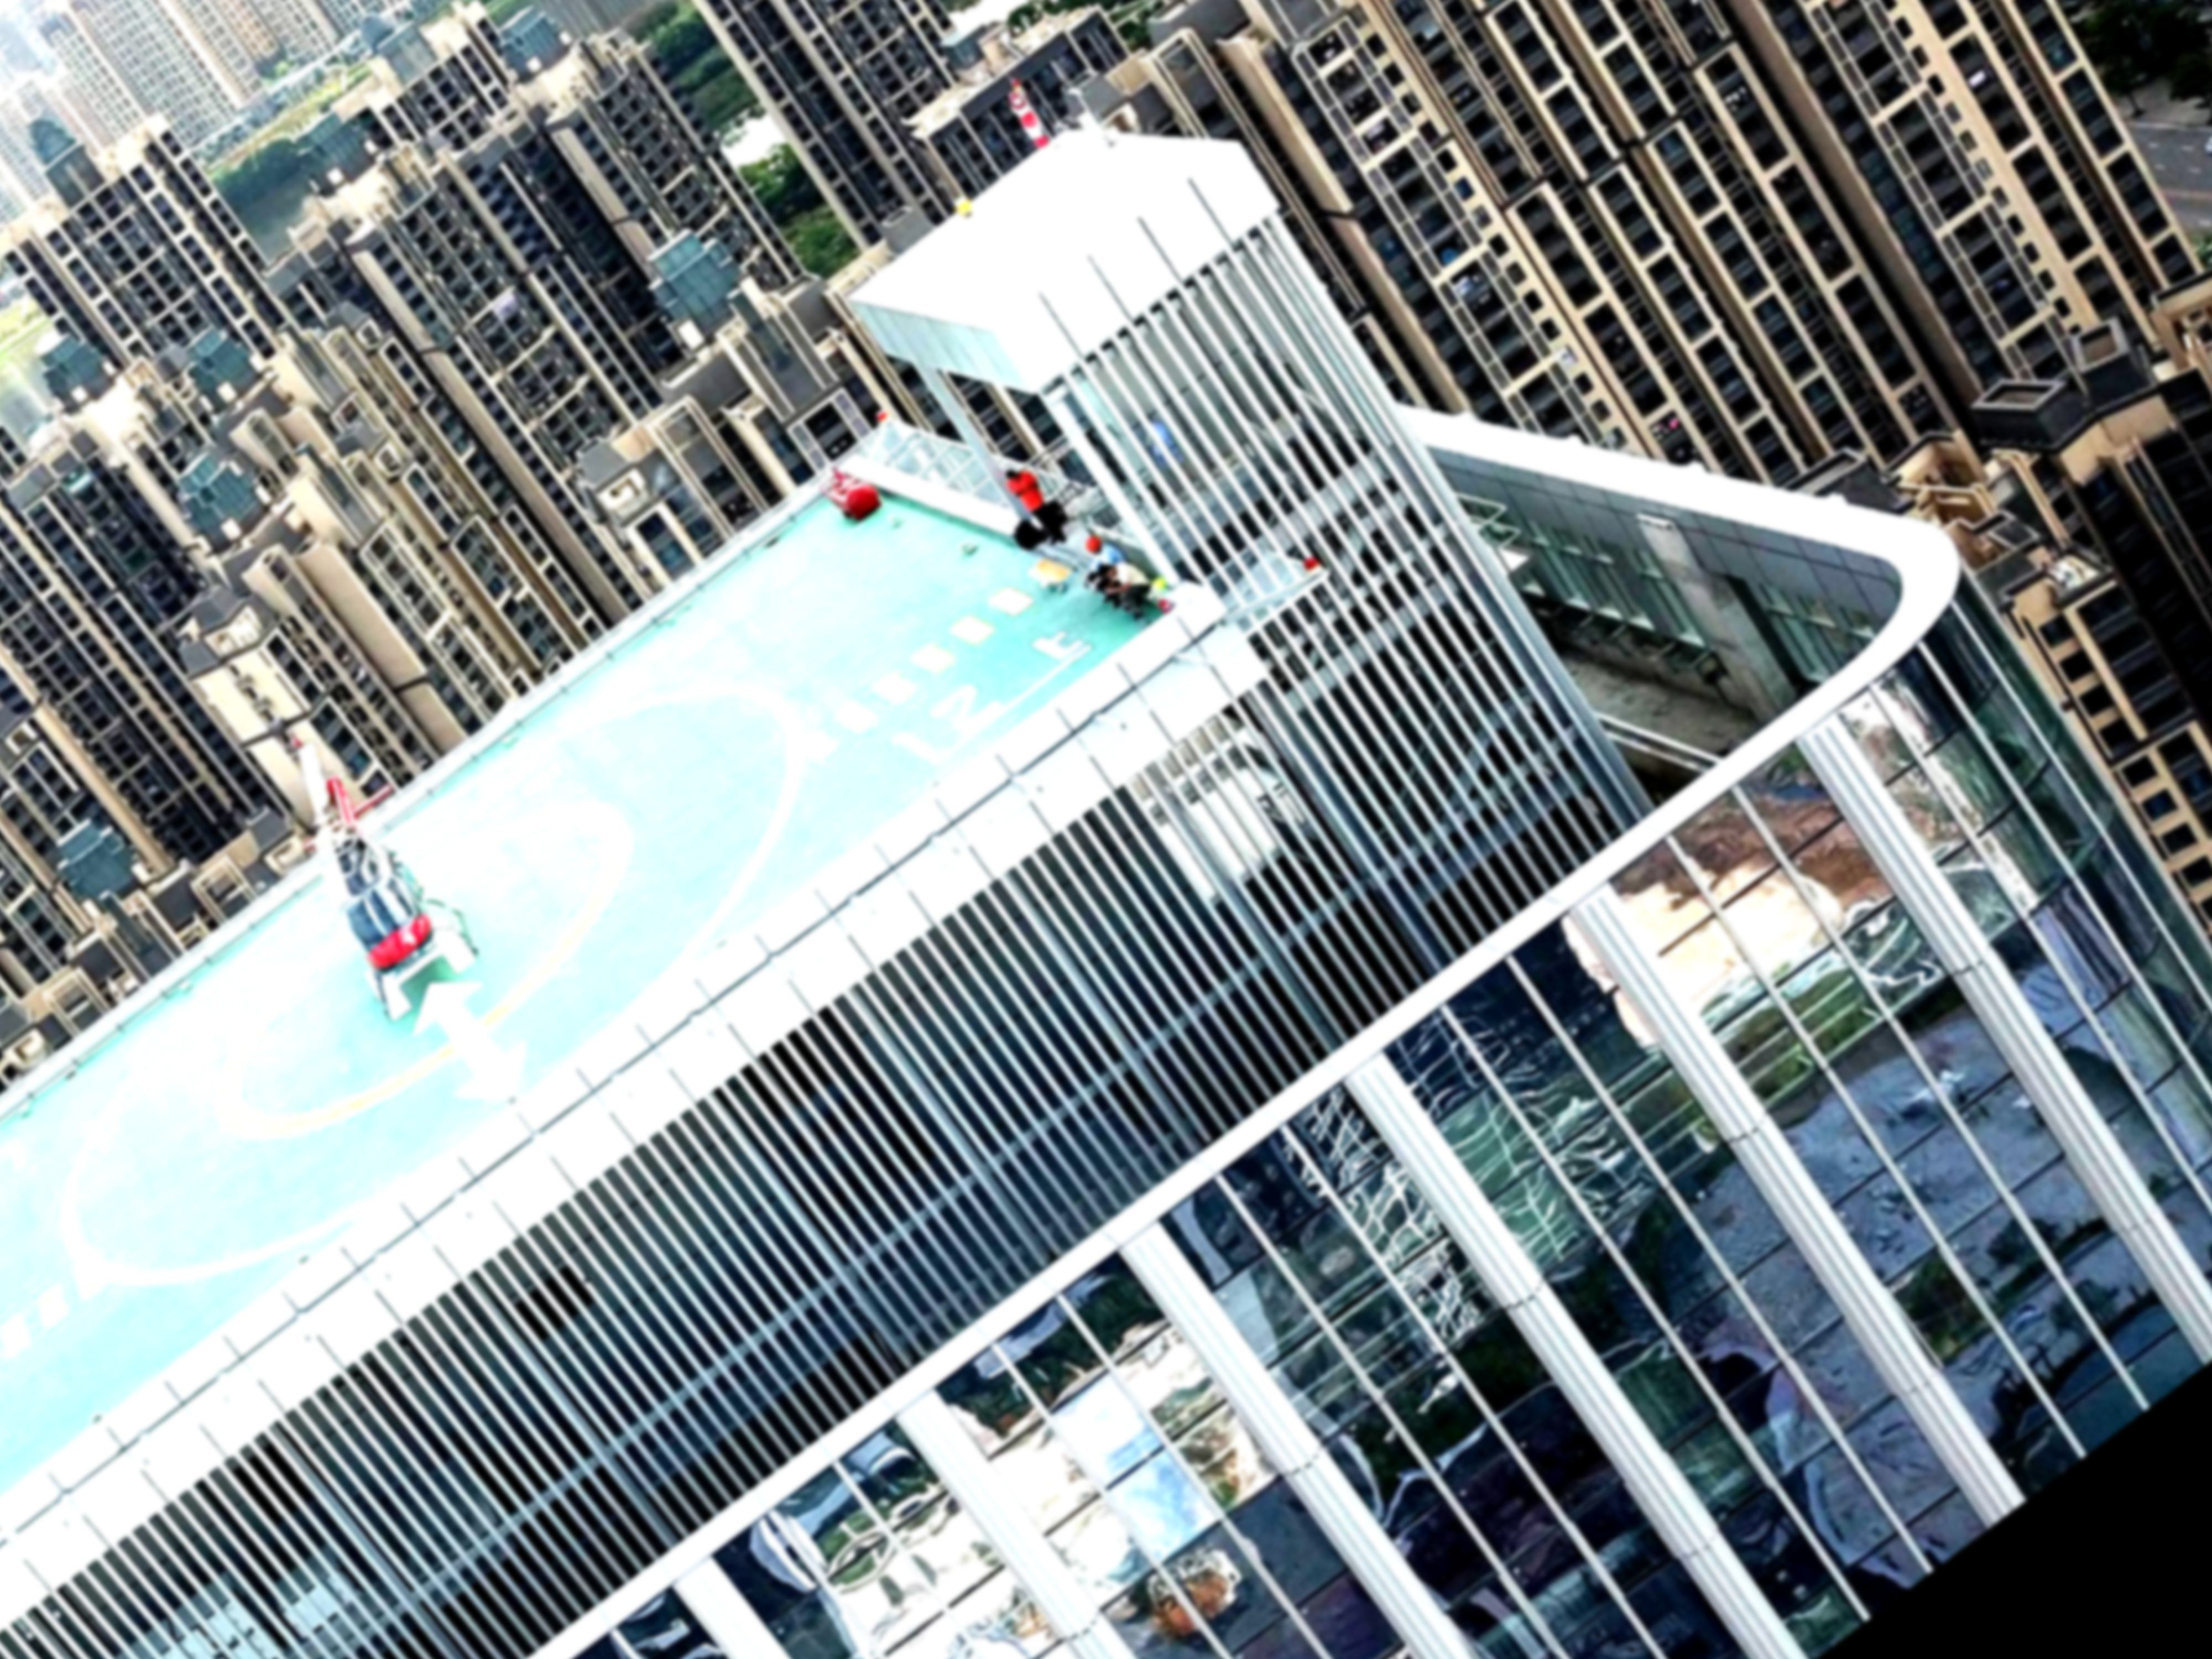Apron: (192, 833, 543, 1049)
